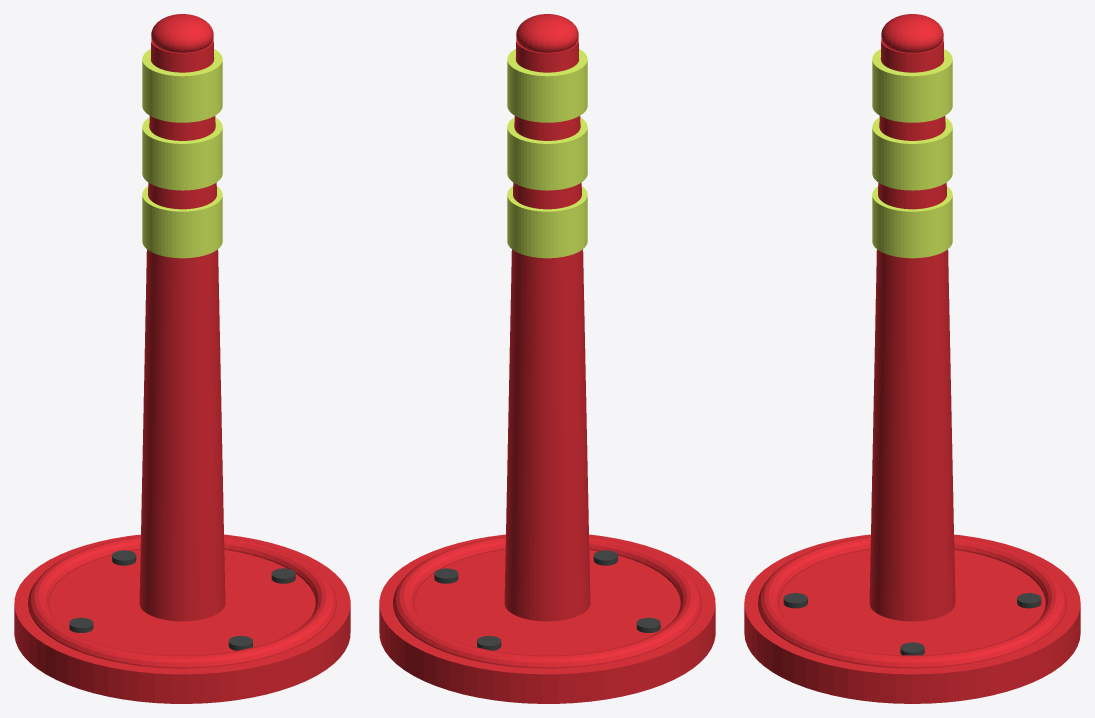
Rendered from pu-bollard-70cm.glb.
The picture shows the model from 3 angles, left to right: view 1: azimuth 30°, elevation 25°; view 2: azimuth 150°, elevation 25°; view 3: azimuth 270°, elevation 25°; orthographic projection.
Parts seen in each view (by area): view 1: FlexiblePUPost, RoundBase, BaseRim, ReflectiveBand3, ReflectiveBand2, ReflectiveBand1, RoundedCap; view 2: FlexiblePUPost, RoundBase, BaseRim, ReflectiveBand3, ReflectiveBand2, ReflectiveBand1, RoundedCap; view 3: FlexiblePUPost, RoundBase, BaseRim, ReflectiveBand3, ReflectiveBand2, ReflectiveBand1, RoundedCap.
Boxes of the visible parts, x1=… form: FlexiblePUPost: x1=139, y1=38, x2=225, y2=621; RoundBase: x1=14, y1=534, x2=350, y2=703; BaseRim: x1=28, y1=536, x2=336, y2=668; ReflectiveBand3: x1=142, y1=49, x2=222, y2=122; ReflectiveBand2: x1=142, y1=117, x2=222, y2=190; ReflectiveBand1: x1=142, y1=186, x2=222, y2=258; RoundedCap: x1=151, y1=14, x2=213, y2=52; FlexiblePUPost: x1=504, y1=38, x2=590, y2=621; RoundBase: x1=379, y1=534, x2=715, y2=703; BaseRim: x1=393, y1=536, x2=701, y2=668; ReflectiveBand3: x1=507, y1=49, x2=587, y2=122; ReflectiveBand2: x1=507, y1=117, x2=587, y2=190; ReflectiveBand1: x1=507, y1=186, x2=587, y2=258; RoundedCap: x1=516, y1=14, x2=578, y2=52; FlexiblePUPost: x1=869, y1=38, x2=955, y2=621; RoundBase: x1=744, y1=534, x2=1080, y2=703; BaseRim: x1=758, y1=536, x2=1066, y2=668; ReflectiveBand3: x1=872, y1=49, x2=952, y2=122; ReflectiveBand2: x1=872, y1=117, x2=952, y2=190; ReflectiveBand1: x1=872, y1=186, x2=952, y2=258; RoundedCap: x1=881, y1=14, x2=943, y2=52.
Size of the model in its own units: 0.36 by 0.7374 by 0.36.
